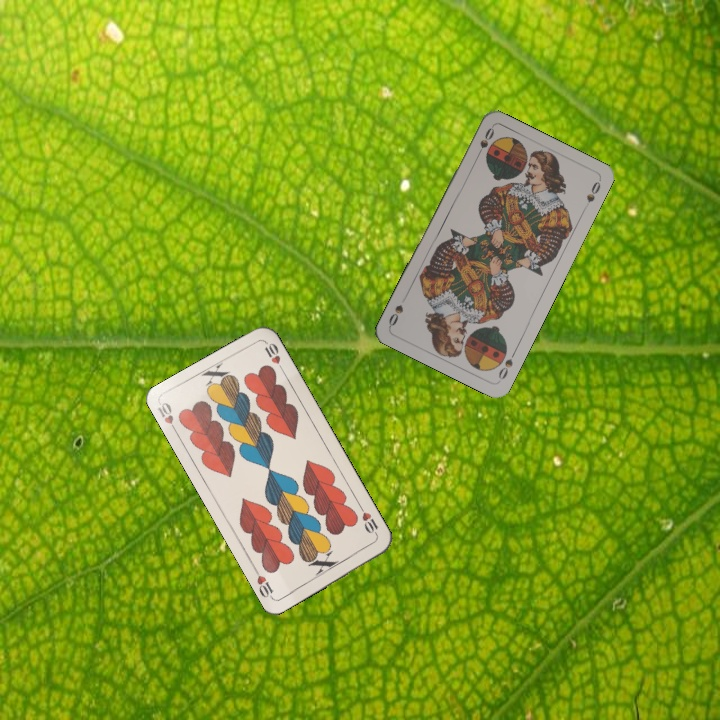H10: (153, 398, 180, 437), (356, 502, 381, 540)
SO: (471, 123, 497, 161), (494, 346, 519, 383)
